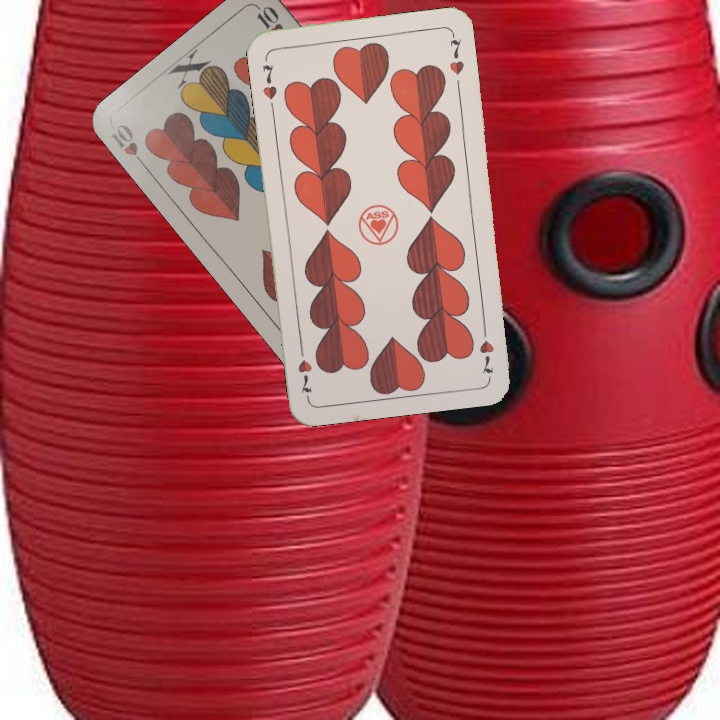H10: (107, 119, 151, 173)
H7: (476, 320, 497, 377), (258, 60, 280, 102)
